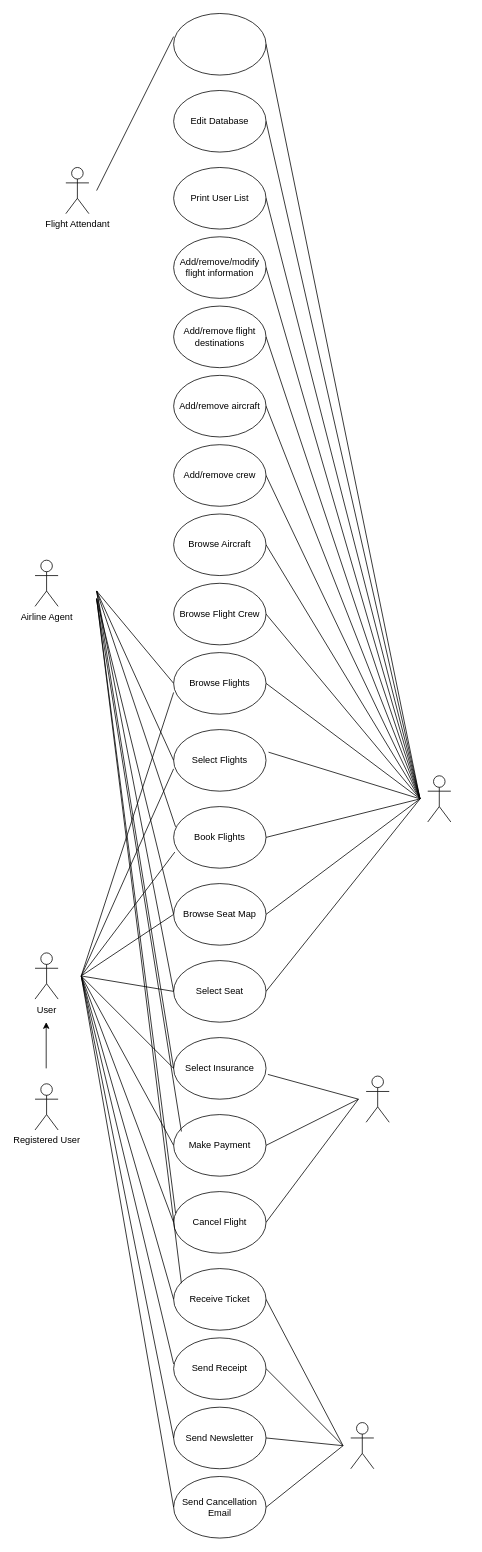
Some shapes in this 482 by 1552 pixel diagram are drawn without their labels. The centre of each missing label's shape, as x and y in pixels:
"Bank" belongs at point (377, 1098).
"Browse List of Passengers" belongs at point (219, 44).
"Email Admin" belongs at point (362, 1445).
"System Admin" belongs at point (439, 798).
